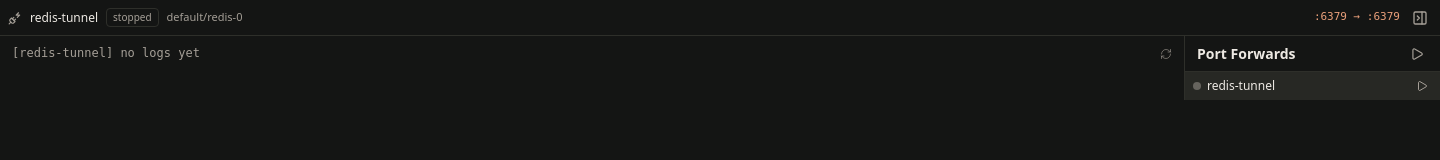
it: RuntimePanel — Start all port-forwards › shows error when start-all is rejected
Click the button named "Start all port-forwards". click: [1417, 54]
box: [1406,42,1428,64]
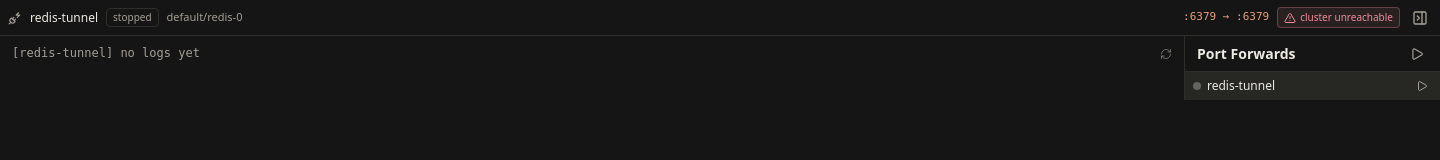
Check: the message reads "cluster unreachable", box [1300,10,1393,24]
